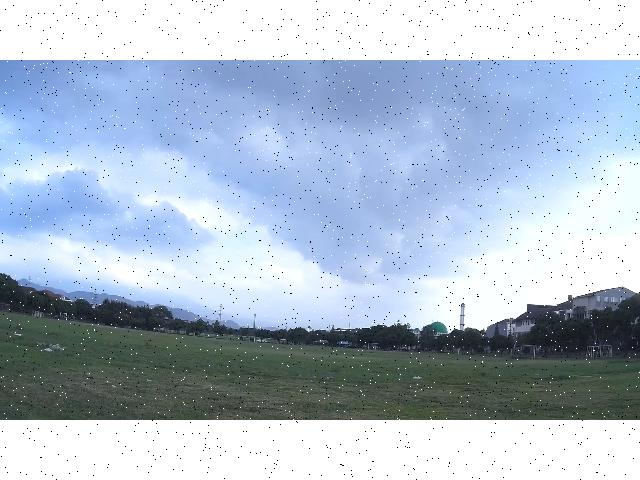Anti-Drone: (366, 173, 398, 193)
